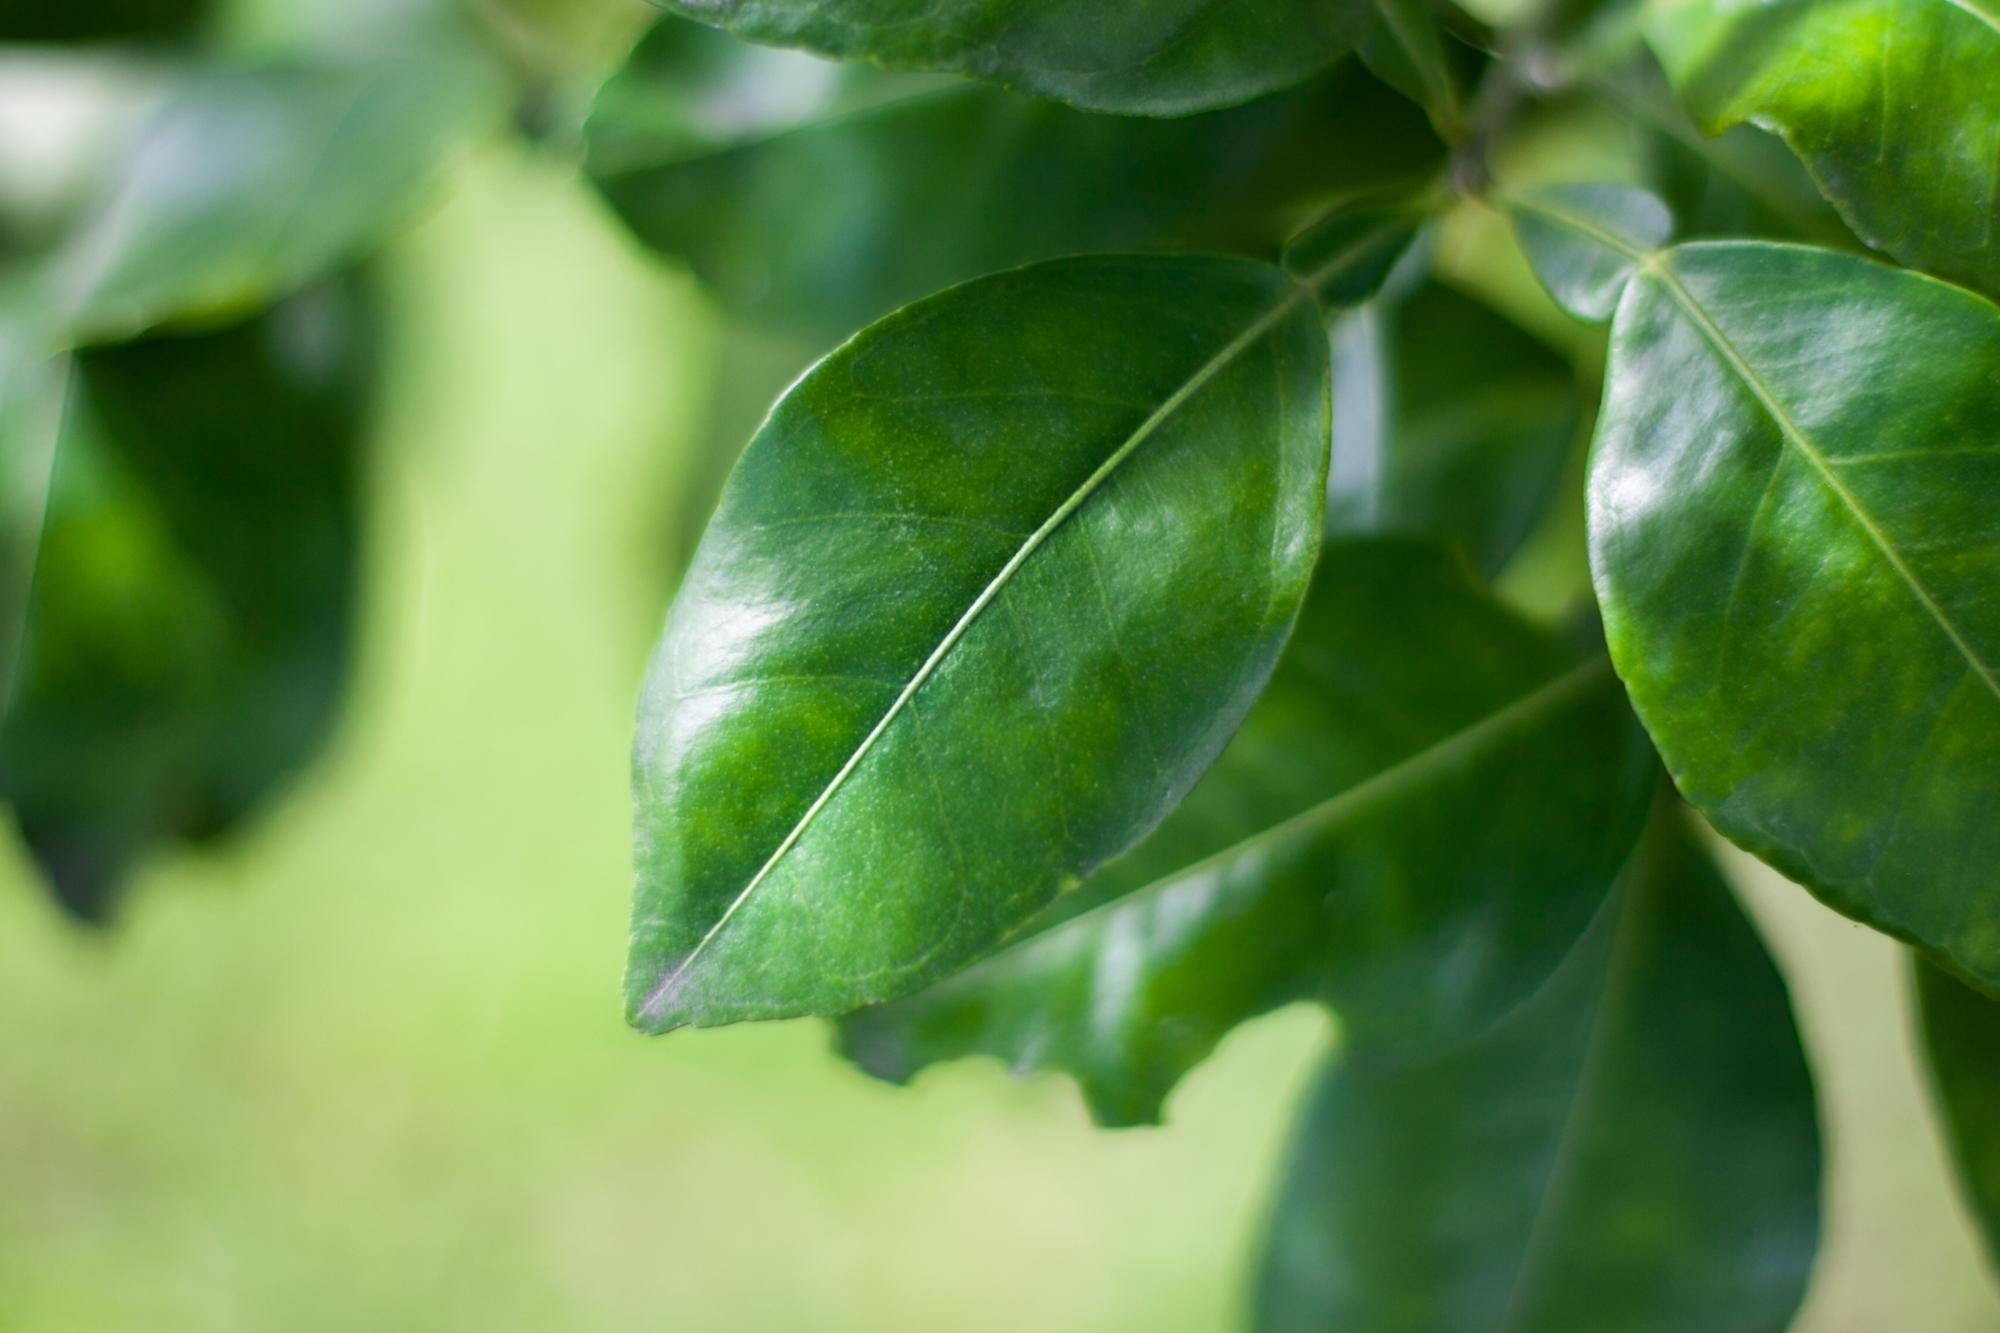Citrus Greening: (620, 173, 1436, 1041)
